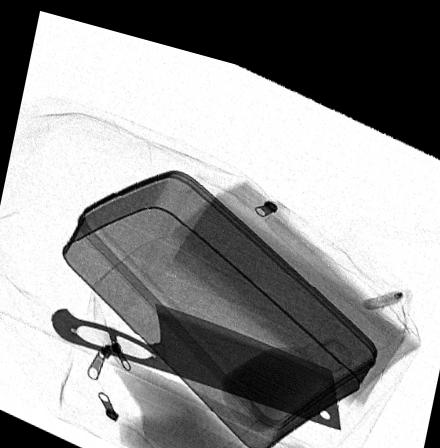Knife: (50, 293, 342, 413)
